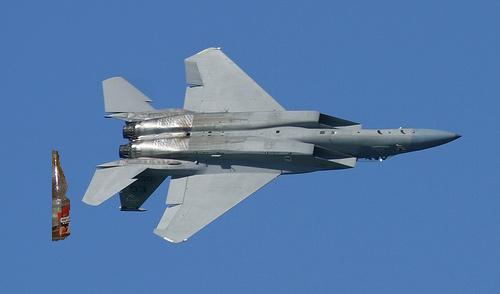tampered: (53, 151, 70, 241)
